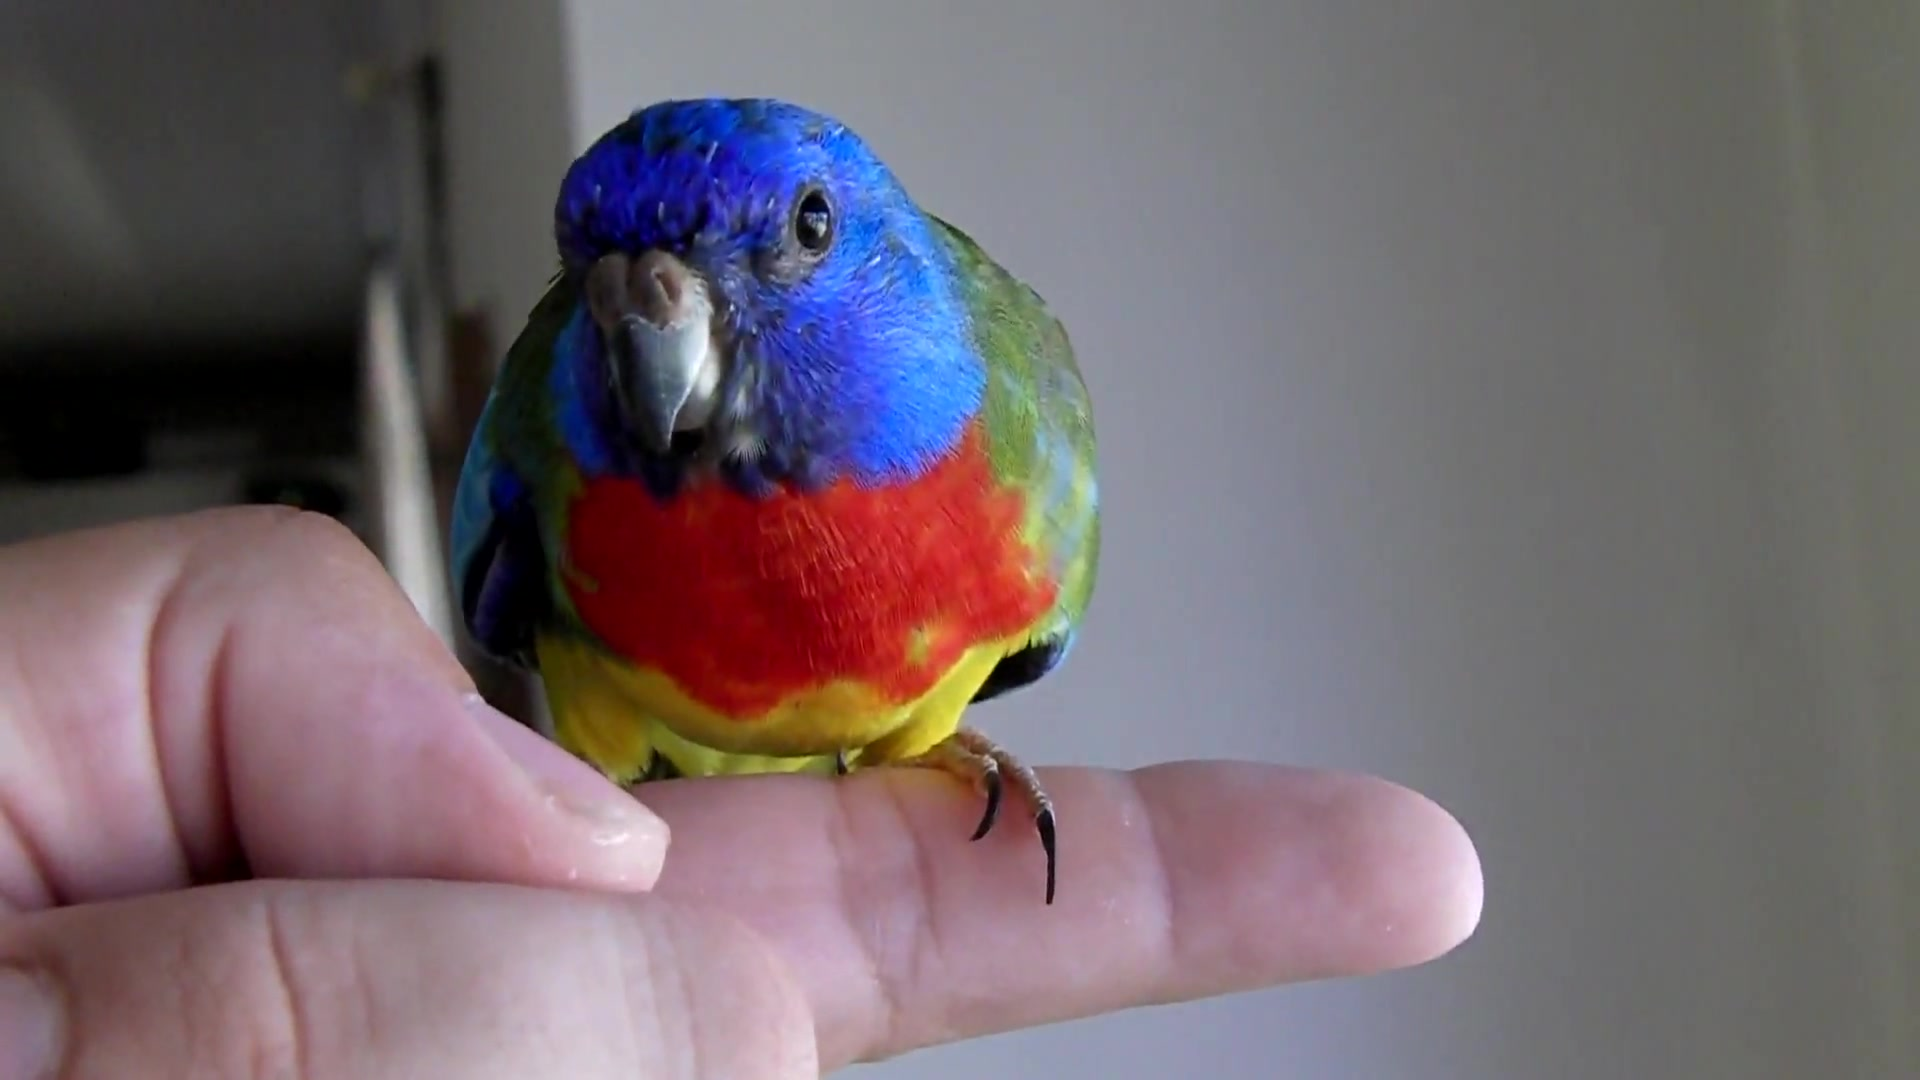bird: (448, 94, 1108, 910)
